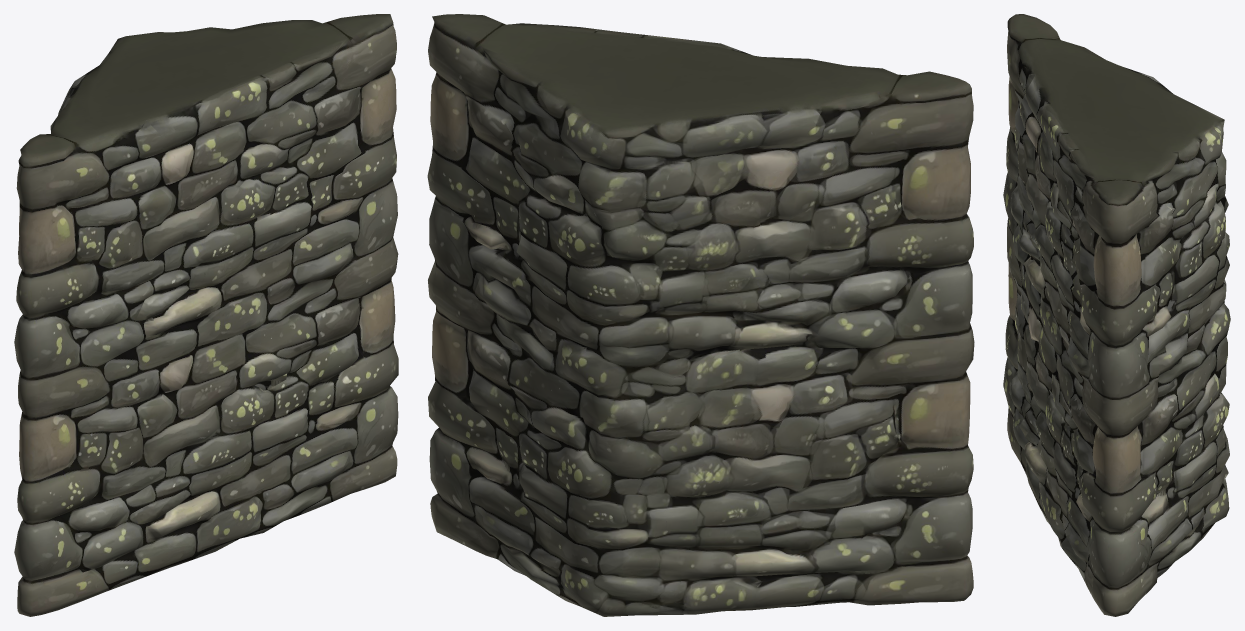
The model's file is wall_stone_tripo.glb.
3 renders of one model, left to right at view 1: azimuth 30°, elevation 25°; view 2: azimuth 150°, elevation 25°; view 3: azimuth 270°, elevation 25°, orthographic. The views are drawn at different scales.
Visible parts, largest first — view 1: stone wall 3d model; view 2: stone wall 3d model; view 3: stone wall 3d model.
Part boxes in pixels (left/top/right/bottom): stone wall 3d model: left=14, top=14, right=398, bottom=616; stone wall 3d model: left=427, top=14, right=974, bottom=616; stone wall 3d model: left=1003, top=14, right=1230, bottom=616.
Bounding box in the file's own units: 0.9592 × 0.9773 × 0.4818.
1 material, 1 textured.
